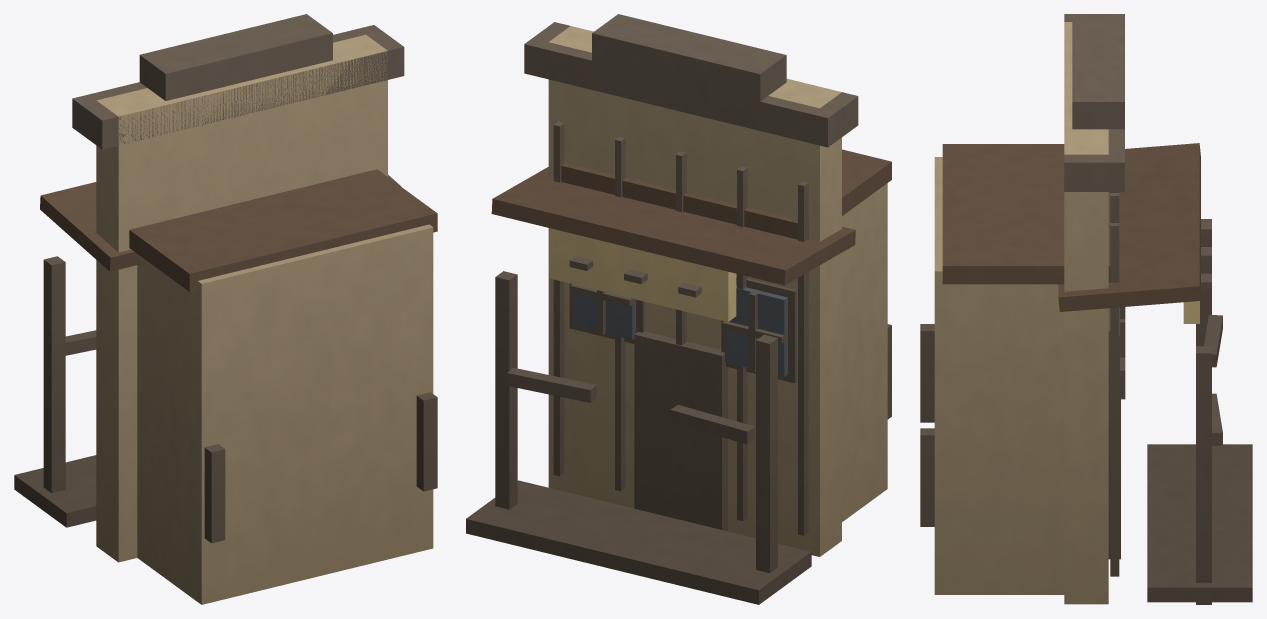
The model's file is town_facade_store.glb.
The picture shows the model from 3 angles, left to right: view 1: azimuth 30°, elevation 25°; view 2: azimuth 150°, elevation 25°; view 3: azimuth 270°, elevation 25°; orthographic projection.
Visible parts, largest first — view 1: town_facade_store; view 2: town_facade_store; view 3: town_facade_store.
Boxes of the visible parts, left/top/right/bottom form: town_facade_store: left=14, top=14, right=437, bottom=604; town_facade_store: left=466, top=14, right=891, bottom=604; town_facade_store: left=920, top=14, right=1252, bottom=604.
Size of the model in its own units: 1.74 by 2.6 by 1.64.
1 material, 1 textured.
